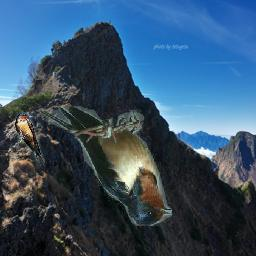Swallow: (40, 106, 173, 226), (13, 112, 45, 166)
